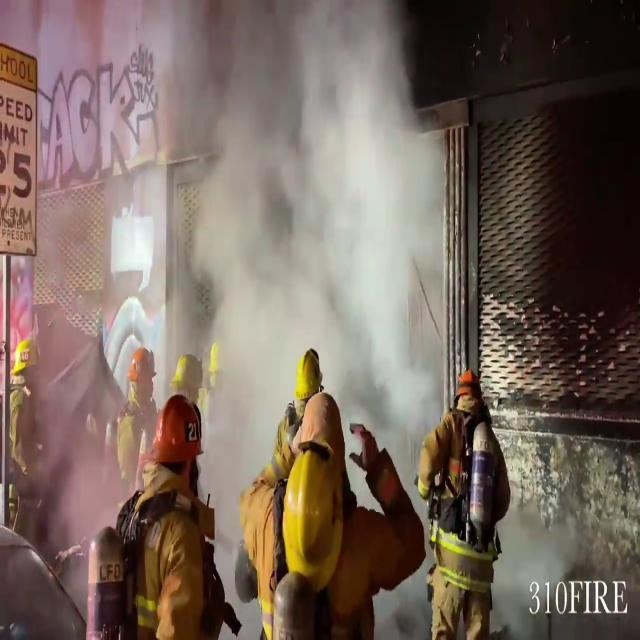Smoke: (110, 0, 448, 516)
